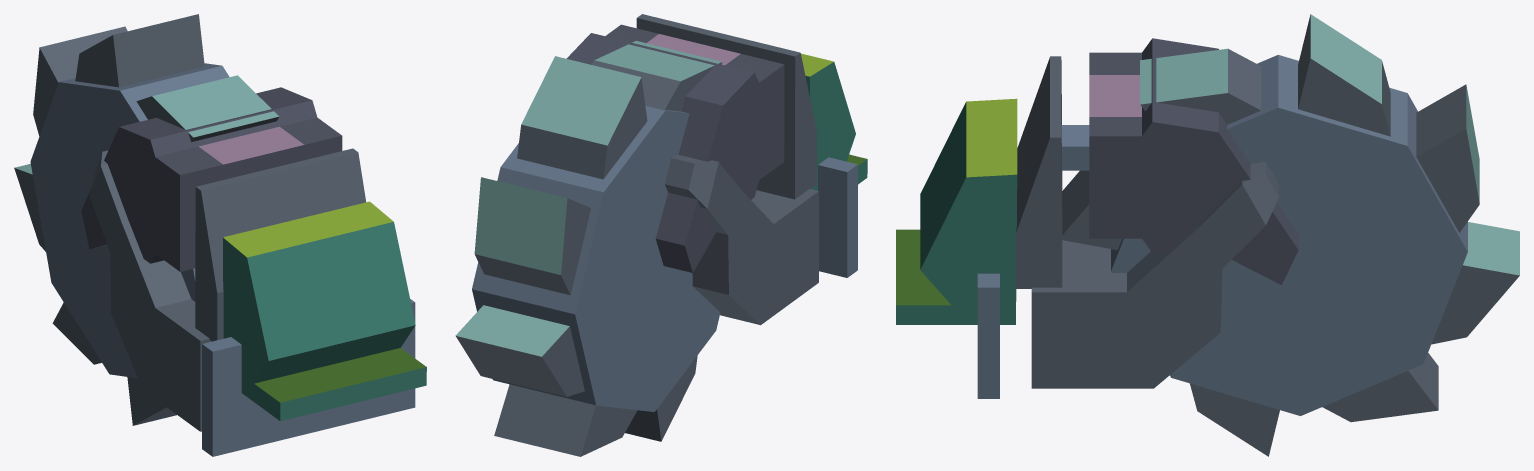
Rendered from miner_UV.fbx.
3 renders of one model, left to right at view 1: azimuth 30°, elevation 25°; view 2: azimuth 150°, elevation 25°; view 3: azimuth 270°, elevation 25°, orthographic. The views are drawn at different scales.
Visible parts, largest first — view 1: miner; view 2: miner; view 3: miner.
Part boxes in pixels (x1,y1,x2,y2): miner: (14, 14, 426, 456); miner: (455, 14, 867, 456); miner: (896, 14, 1519, 456).
Size of the model in its own units: 77 by 137 by 194.
